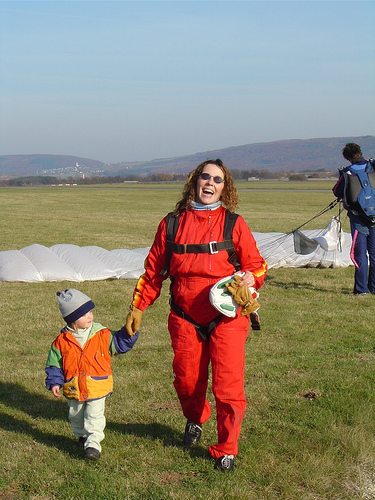without_mask: (184, 157, 245, 216), (52, 288, 105, 337)
